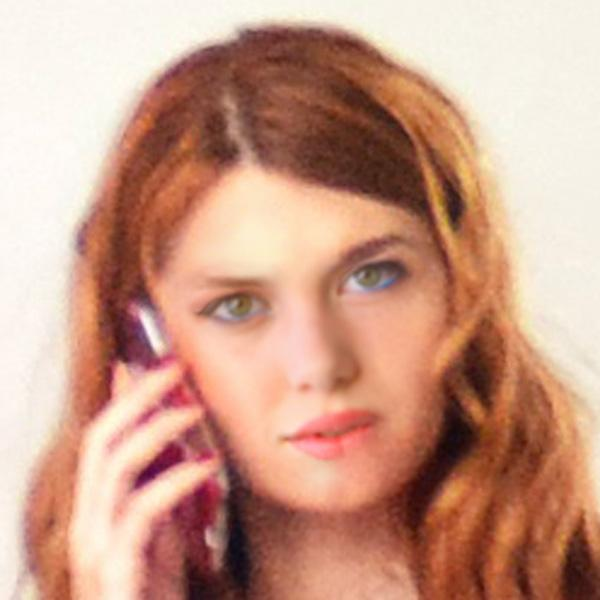Eyes: (334, 246, 418, 306), (196, 282, 278, 336)
